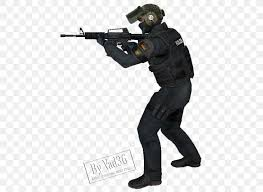gun: (57, 26, 145, 51)
